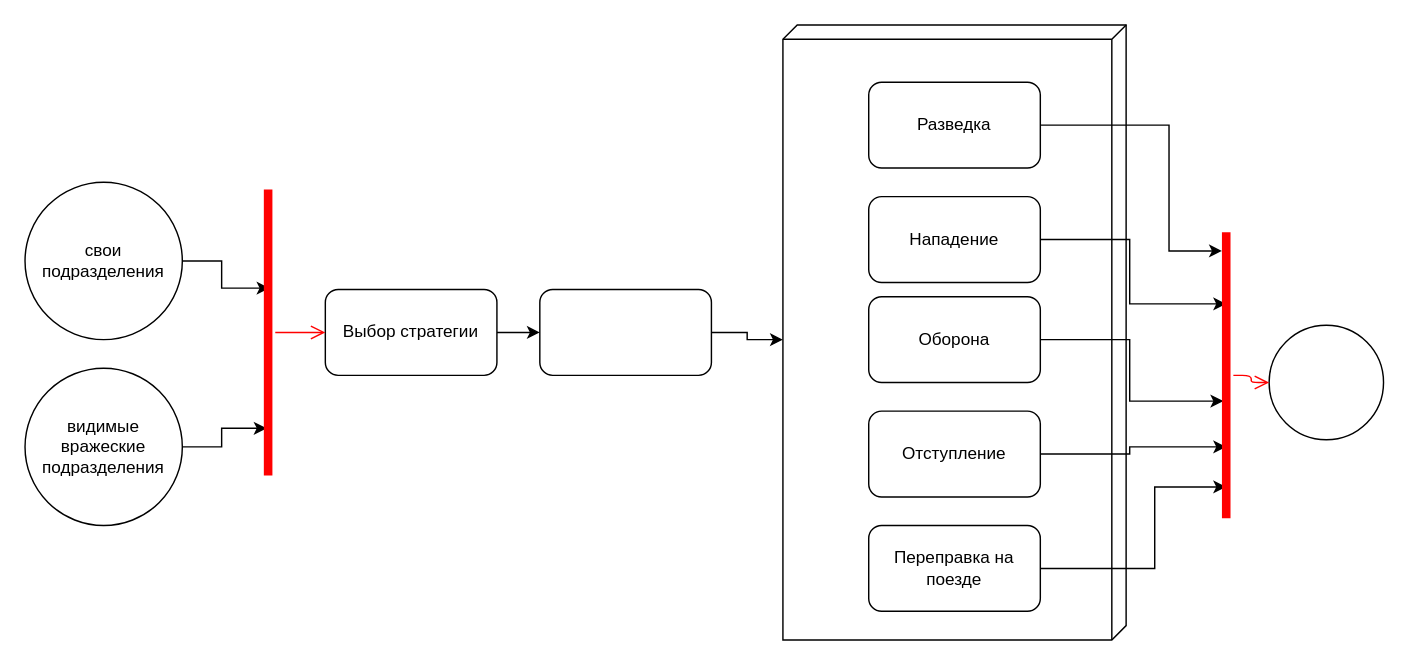
Image size: 1409x665. Some labels were removed from this diagram. Each missing label, with the box of its shape:
Выбор приоритетного подразделения: (538, 288, 711, 375)
Команда(ы): (1268, 324, 1384, 440)
Стратегии для одного подразделения: (781, 24, 1126, 640)
